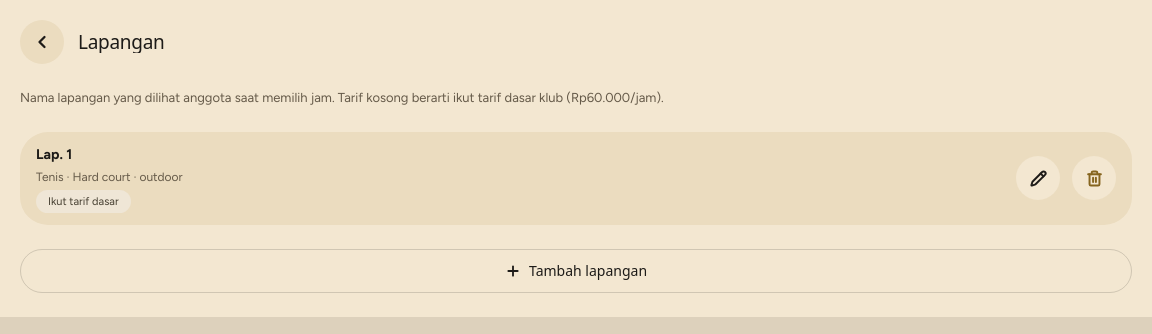
Test: AdminCourtsScreen › menolak menghapus lapangan terakhir
Check: the text "Lap. 1" is shown, box [36,146,72,162]
Click the button named "Hapus Lap. 1".
click(1094, 178)  # box [1072,156,1116,200]
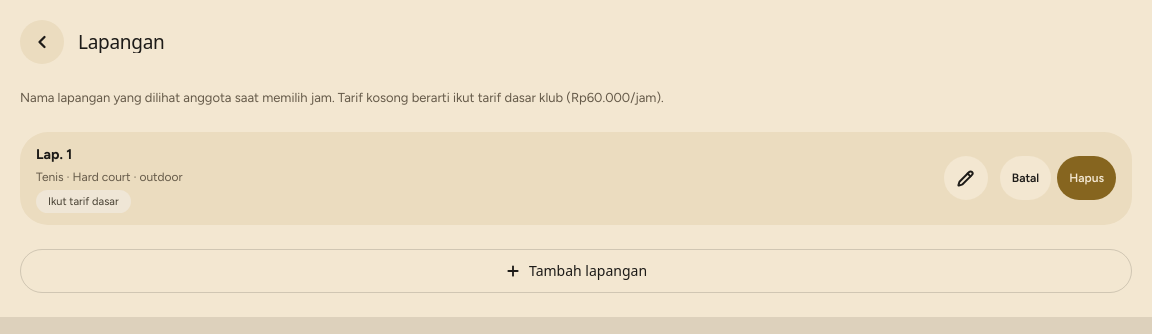
Click the button "Hapus".
click(1087, 178)  # box [1057,156,1116,200]
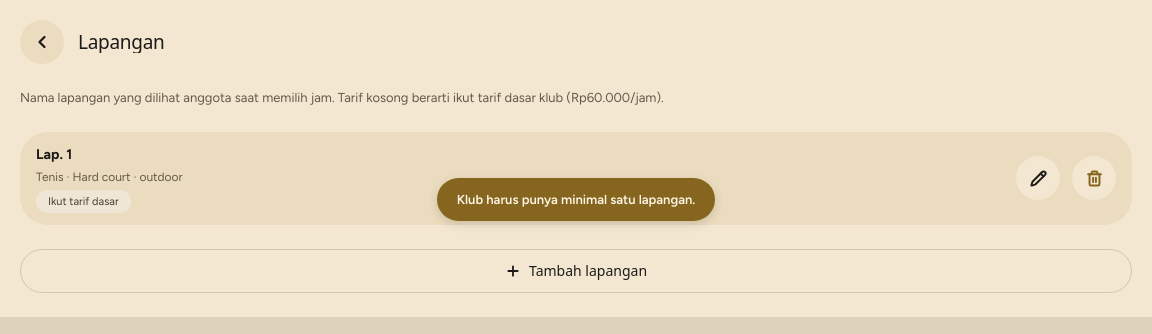
Check: the text "Lap. 1" is shown, box [36,146,72,162]
Check: the text "Klub harus punya minimal satu lapangan." is shown, box [437,178,715,221]
